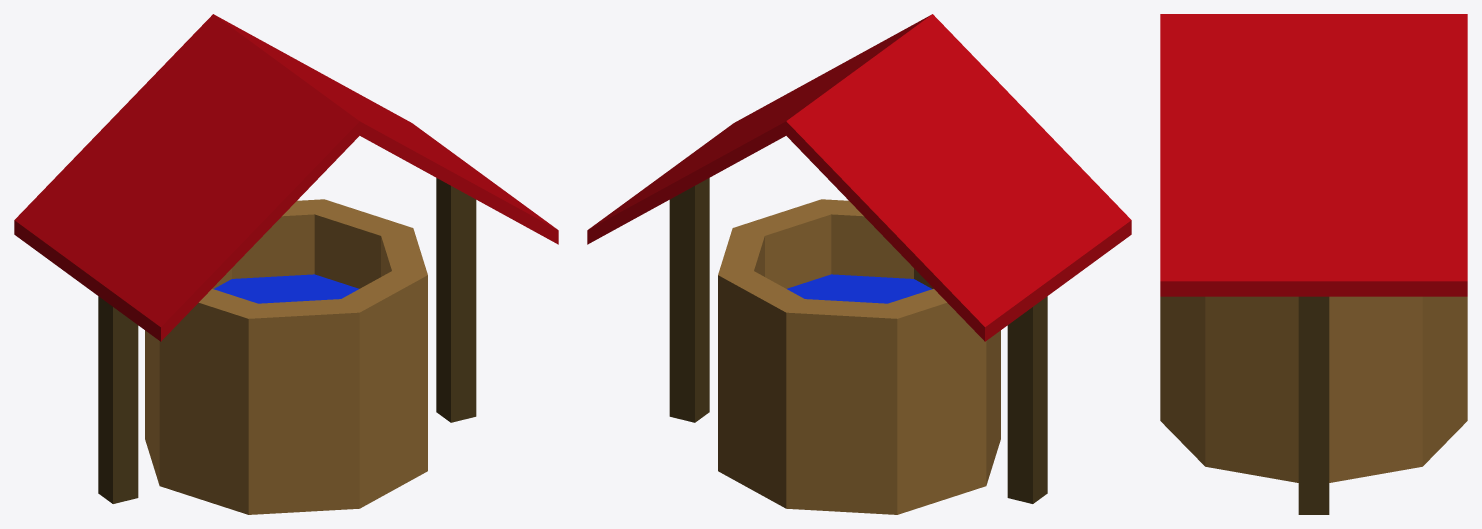
Rendered from watter-well.fbx.
3 views of the same model, side by side, from view 1: azimuth 30°, elevation 25°; view 2: azimuth 150°, elevation 25°; view 3: azimuth 270°, elevation 25° (orthographic). The views are drawn at different scales.
Parts seen in each view (by area): view 1: water well; view 2: water well; view 3: water well.
Part boxes in pixels (box(x1,y1,x2,y2)): water well: box(14, 14, 558, 514); water well: box(587, 14, 1131, 514); water well: box(1160, 14, 1467, 514).
Bounding box in the file's own units: 3.14 × 2 × 2.92.
